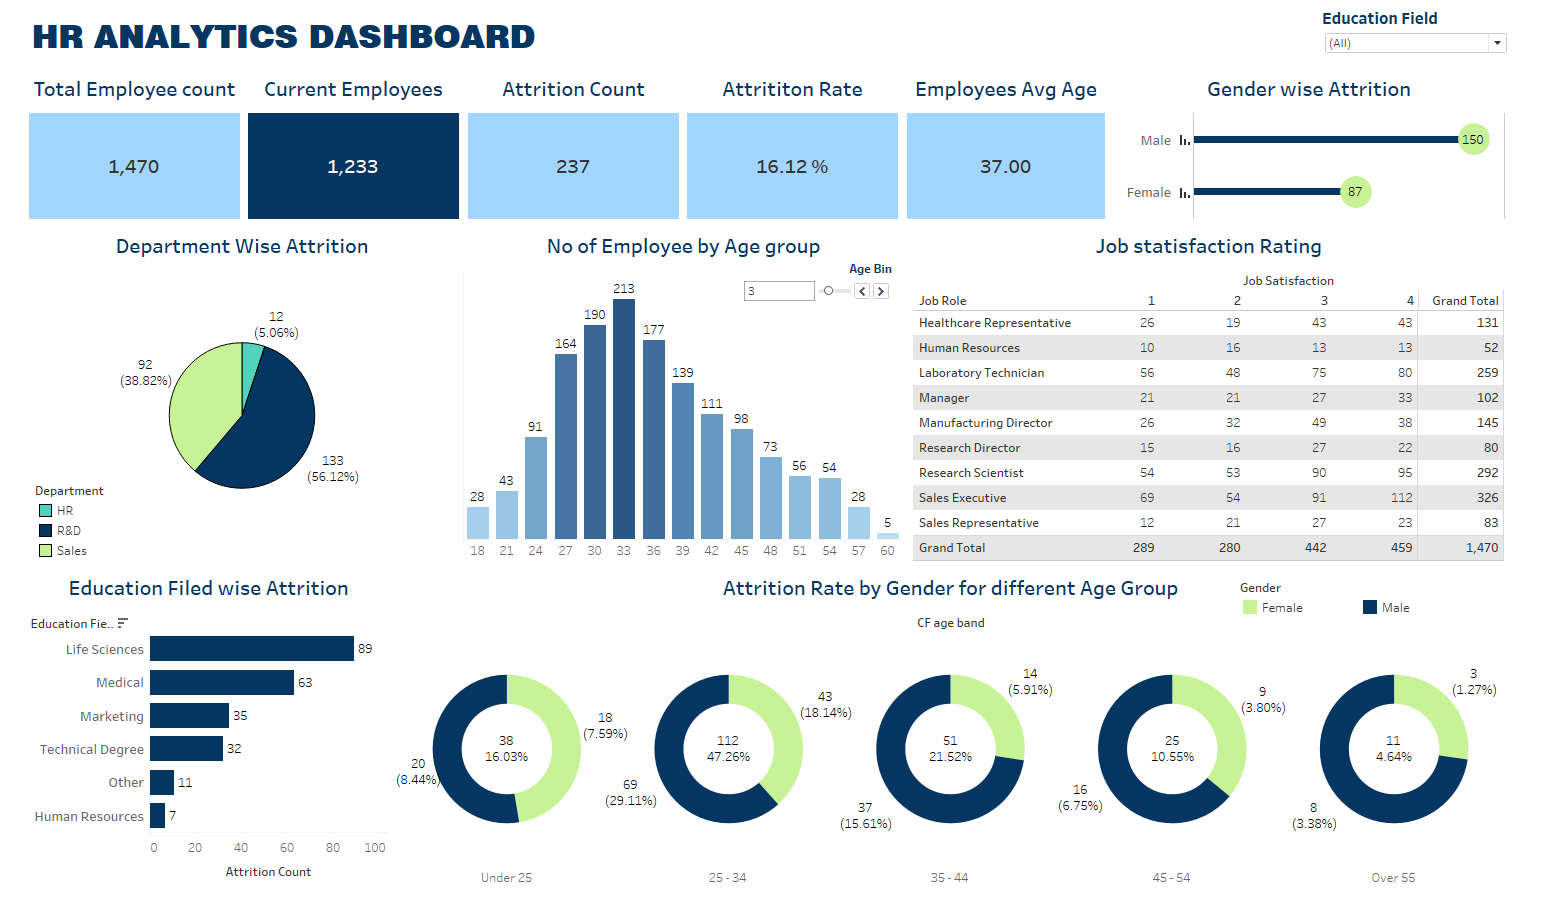

Layout of this report page (visuals, bound fields, positions):
{"tool":"tableau","page":{"name":"Dashboard 1","canvas":[1500,900],"ordinal":0},"visuals":[{"type":"text","box":[8,8,1484,59]},{"type":"filter","title":"total employee count","param":"[federated.1dwwoyq1k3zub9186wpkg1ehxx99].[none:Education Field:nk]","box":[1305,8,188,51]},{"type":"worksheet","title":"total employee count","mark":"Automatic","box":[8,67,219.4,157]},{"type":"worksheet","title":"Current Emp count","mark":"Automatic","box":[227.4,67,219.4,157]},{"type":"worksheet","title":"attr count","mark":"Automatic","box":[446.8,67,219.4,157]},{"type":"worksheet","title":"attr rate","mark":"Automatic","box":[666.2,67,219.4,157]},{"type":"worksheet","title":"Avg Age","mark":"Automatic","box":[885.6,67,206,157]},{"type":"worksheet","title":"Gender wise attrition","mark":"Automatic","rows":["Gender"],"cols":["Calculation_1631147558692990977","Calculation_1631147558692990977"],"box":[1091.6,67,400.4,157]},{"type":"worksheet","title":"Dept wise attr","mark":"Pie","box":[8,224,434.3,342]},{"type":"worksheet","title":"NO. of emp by age","mark":"Bar","rows":["Employee Count"],"cols":["Age (bin)"],"box":[442.3,224,449.4,342]},{"type":"worksheet","title":"Job statisfaction Rating","mark":"Automatic","rows":["Job Role"],"cols":["Job Satisfaction"],"box":[891.7,224,600.3,342]},{"type":"parameter","param":"[Parameters].[Parameter 1]","box":[724,261,151,44]},{"type":"legend","title":"Dept wise attr","param":"[federated.1dwwoyq1k3zub9186wpkg1ehxx99].[none:Department:nk]","box":[18,483,140,78]},{"type":"worksheet","title":"Education Fieldmwise Attrition","mark":"Automatic","rows":["Education Field"],"cols":["Calculation_1631147558692990977"],"box":[8,566,367,326]},{"type":"worksheet","title":"Attr count by gender for diff gen","mark":"Pie","rows":["Calculation_1631147558715920389","Calculation_1631147558715953159"],"cols":["CF_age band"],"box":[375,566,1117,326]},{"type":"legend","title":"Attr count by gender for diff gen","param":"[federated.1dwwoyq1k3zub9186wpkg1ehxx99].[none:Gender:nk]","box":[1219,576,263,50]}]}

Visuals, with their boxes in screenshot pixels (x1, y1, x2, y2), scaled from the page's 1500x900 canvas onto the 1548x912 screenshot:
text: (x1=8, y1=8, x2=1540, y2=68)
"total employee count" filter: (x1=1347, y1=8, x2=1541, y2=60)
"total employee count" worksheet: (x1=8, y1=68, x2=235, y2=227)
"Current Emp count" worksheet: (x1=235, y1=68, x2=461, y2=227)
"attr count" worksheet: (x1=461, y1=68, x2=688, y2=227)
"attr rate" worksheet: (x1=688, y1=68, x2=914, y2=227)
"Avg Age" worksheet: (x1=914, y1=68, x2=1127, y2=227)
"Gender wise attrition" worksheet: (x1=1127, y1=68, x2=1540, y2=227)
"Dept wise attr" worksheet (Pie marks): (x1=8, y1=227, x2=456, y2=574)
"NO. of emp by age" worksheet (Bar marks): (x1=456, y1=227, x2=920, y2=574)
"Job statisfaction Rating" worksheet: (x1=920, y1=227, x2=1540, y2=574)
parameter: (x1=747, y1=264, x2=903, y2=309)
"Dept wise attr" legend: (x1=19, y1=489, x2=163, y2=568)
"Education Fieldmwise Attrition" worksheet: (x1=8, y1=574, x2=387, y2=904)
"Attr count by gender for diff gen" worksheet (Pie marks): (x1=387, y1=574, x2=1540, y2=904)
"Attr count by gender for diff gen" legend: (x1=1258, y1=584, x2=1529, y2=634)
